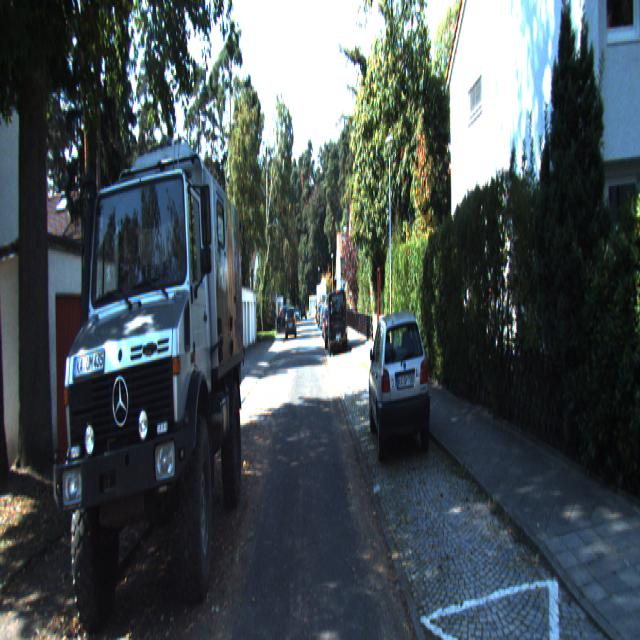Car: (62, 113, 245, 636), (366, 309, 434, 468), (327, 288, 348, 354), (285, 307, 297, 340)
